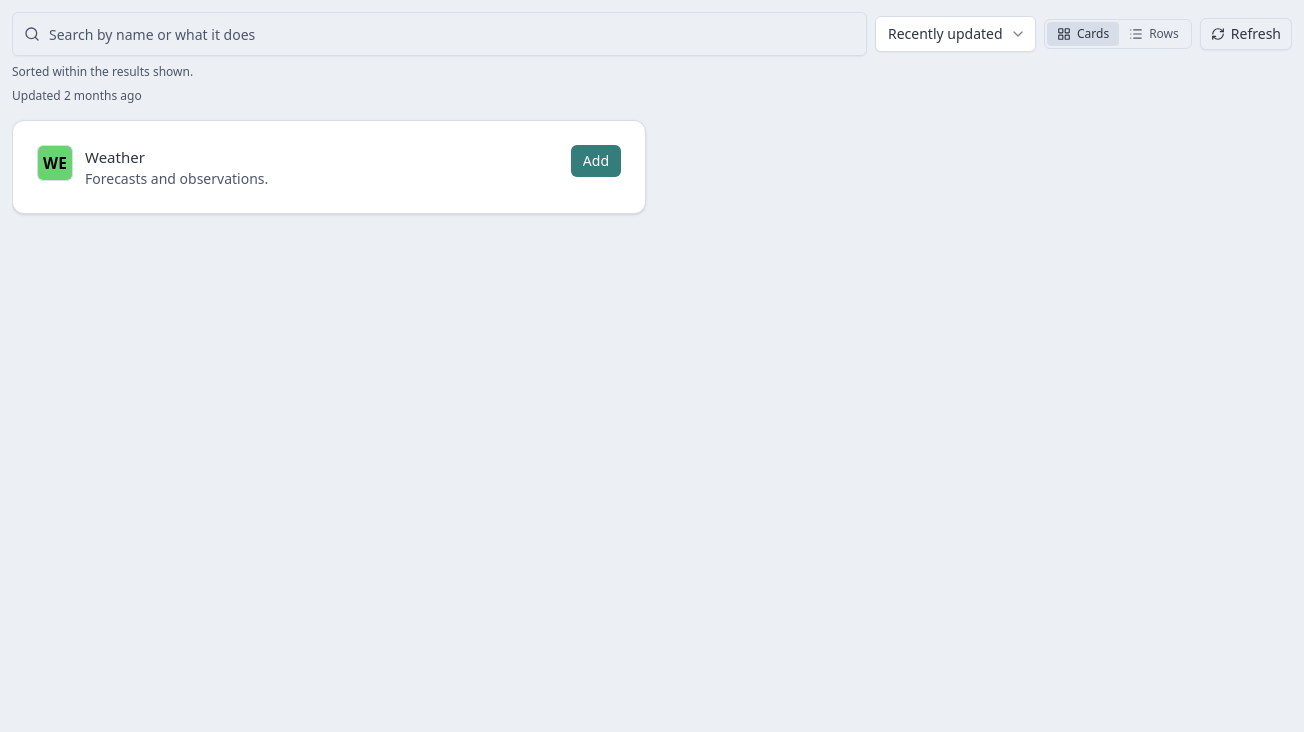
it: picking one › says so when the document cannot be read, and adds nothing
Click the button "Add" at (596, 161), box [571,145,621,177]
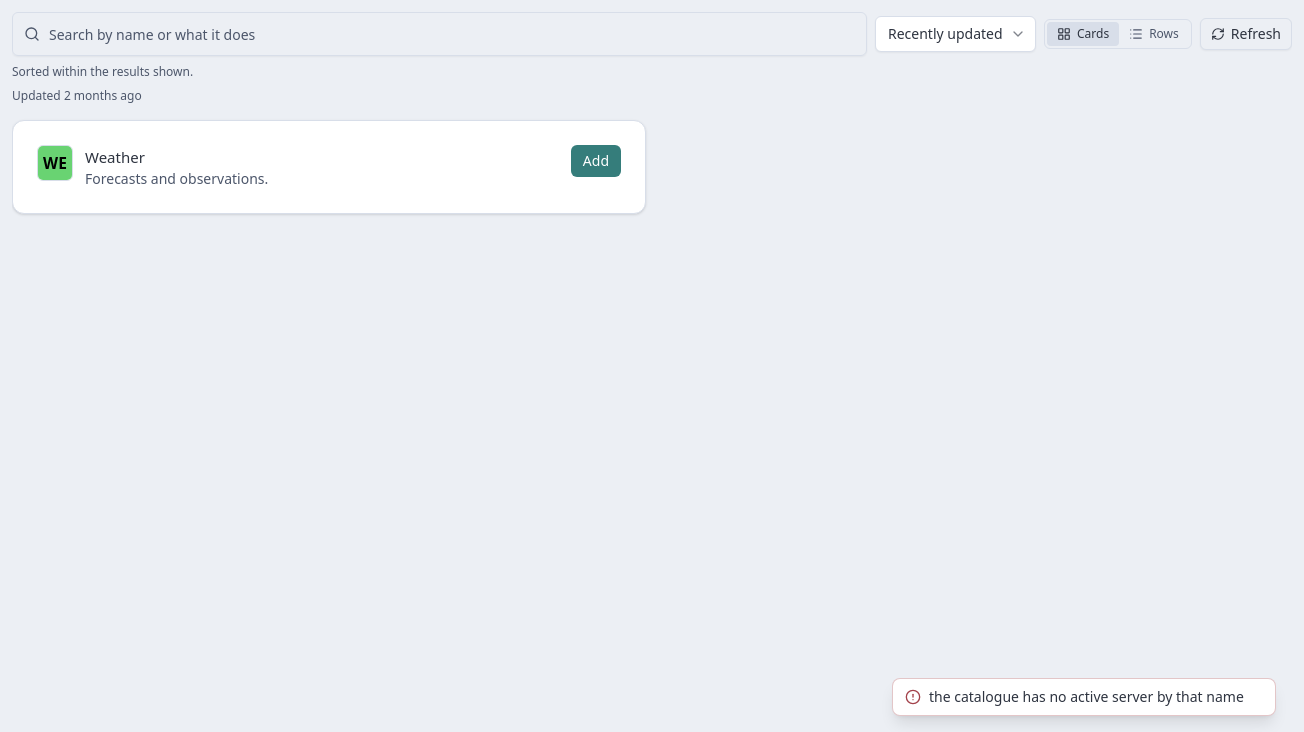
Check: the text "the catalogue has no active server by that name" is shown, box [929,687,1244,707]
